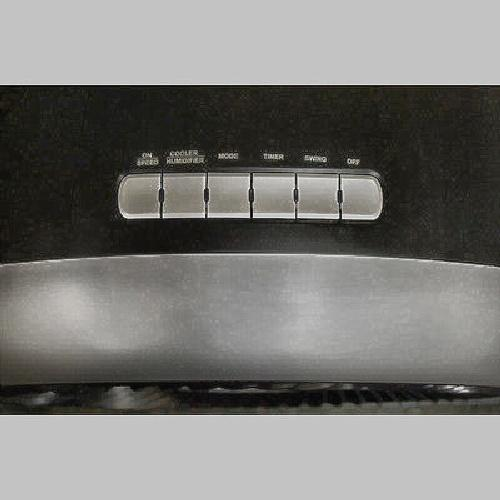fan: (20, 99, 472, 423)
